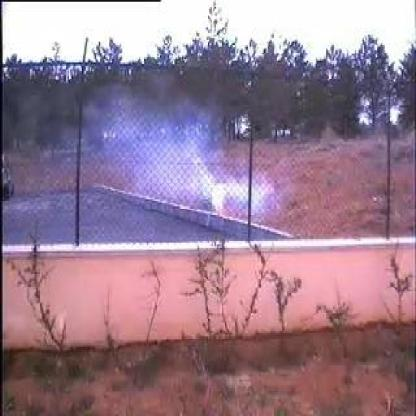-: (86, 71, 272, 222)
